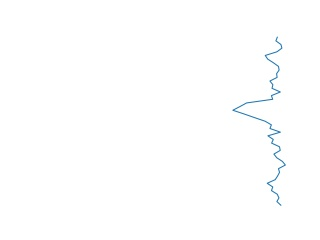interdistributaryEstuary: (229, 37, 289, 207)
